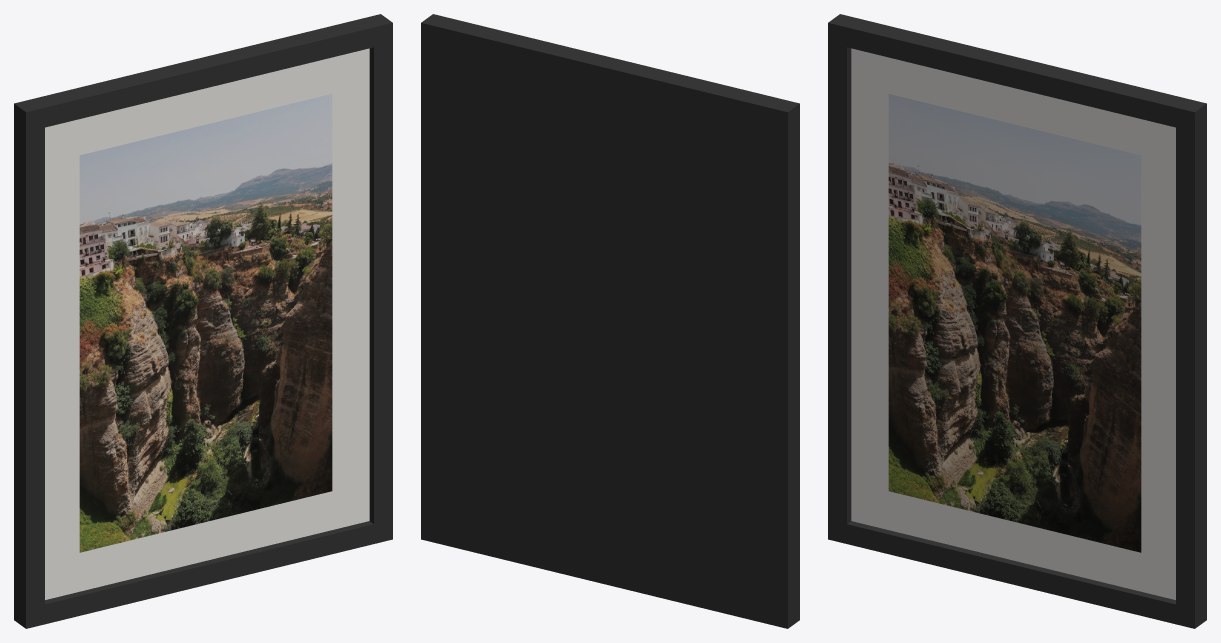
The model's file is ronda-40.gltf.
3 renders of one model, left to right at view 1: azimuth 30°, elevation 25°; view 2: azimuth 150°, elevation 25°; view 3: azimuth 330°, elevation 25°, orthographic.
Visible parts, largest first — view 1: tavla; view 2: tavla; view 3: tavla.
Part boxes in pixels (x1,y1,x2,y2): tavla: (14, 14, 392, 628); tavla: (421, 14, 799, 628); tavla: (828, 14, 1206, 628).
Size of the model in its own units: 0.3864 by 0.52 by 0.022.
Materials: 3 (1 with a texture image).
